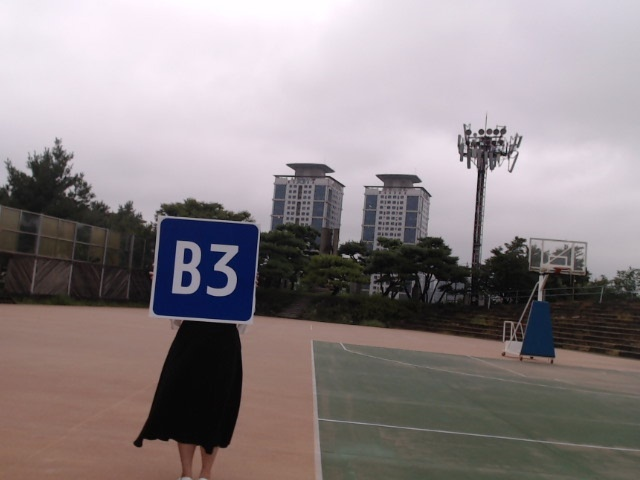delivery_b3: (153, 216, 260, 322)
